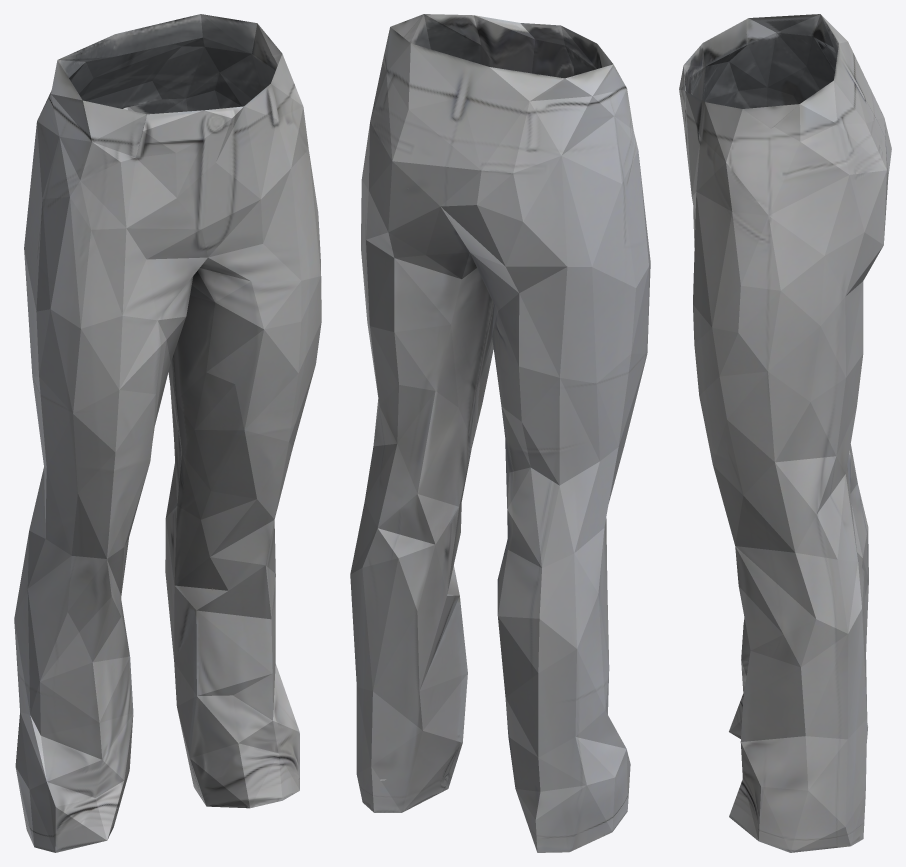
The model's file is Broek.glb.
3 renders of one model, left to right at view 1: azimuth 30°, elevation 25°; view 2: azimuth 150°, elevation 25°; view 3: azimuth 270°, elevation 25°, orthographic. The views are drawn at different scales.
Visible parts, largest first — view 1: temp; view 2: temp; view 3: temp.
Part boxes in pixels (x1,y1,x2,y2): temp: [14, 14, 321, 852]; temp: [350, 14, 650, 852]; temp: [679, 14, 891, 852].
Size of the model in its own units: 0.7202 by 2 by 0.5157.
1 material, 1 textured.
